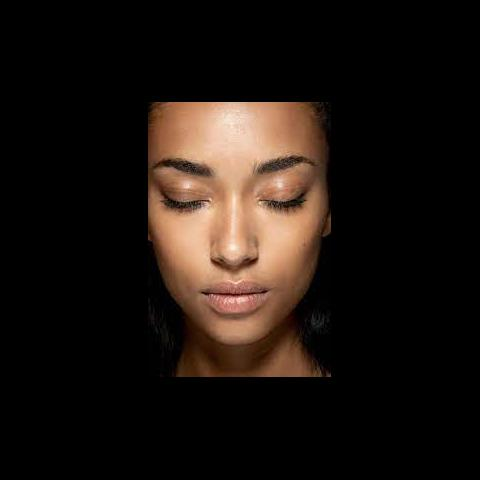closed: (150, 150, 324, 226)
